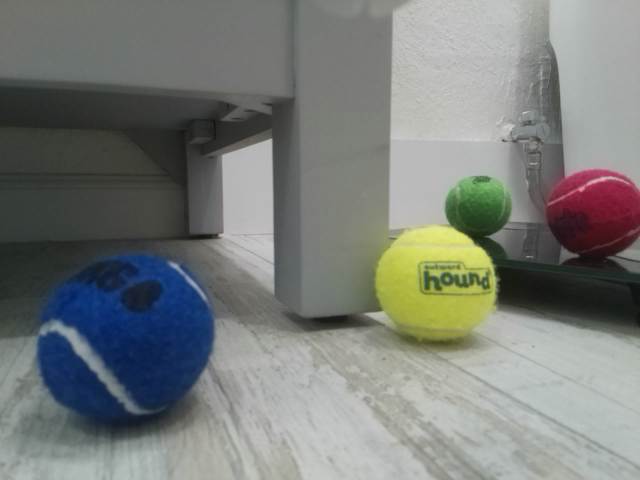blue-ball: (35, 251, 216, 430)
green-ball: (444, 174, 514, 239)
red-ball: (545, 168, 640, 262)
yellow-ball: (372, 224, 501, 347)
